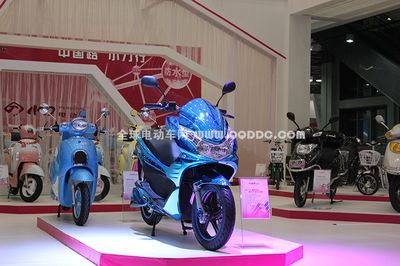non-vehicle: (124, 75, 242, 251), (48, 106, 108, 229), (288, 111, 345, 205), (6, 104, 49, 209)
